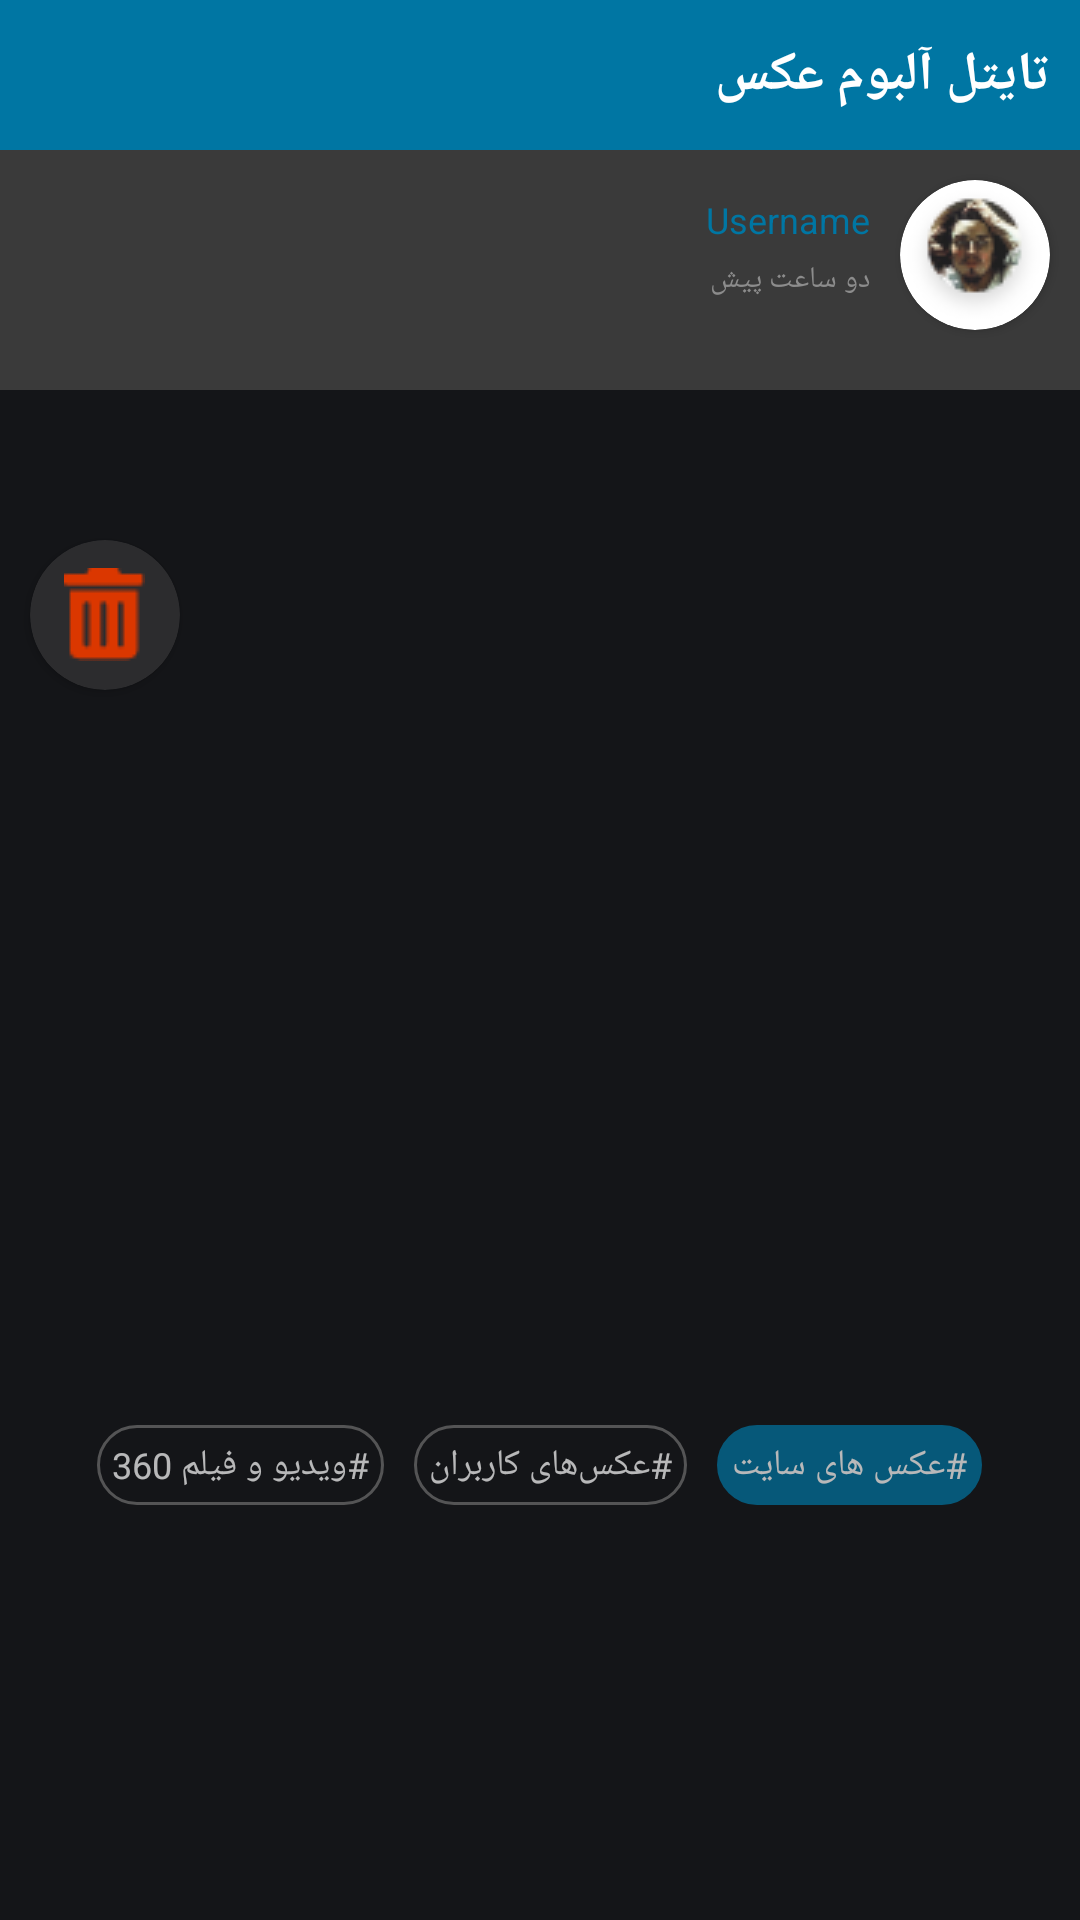

Named icons in this screenshot (1080w x 1920h) and their bounding boxes, bbox(x1, y1, x2, y2):
delete: bbox(64, 568, 145, 661)
userpic: bbox(901, 181, 1048, 328)
